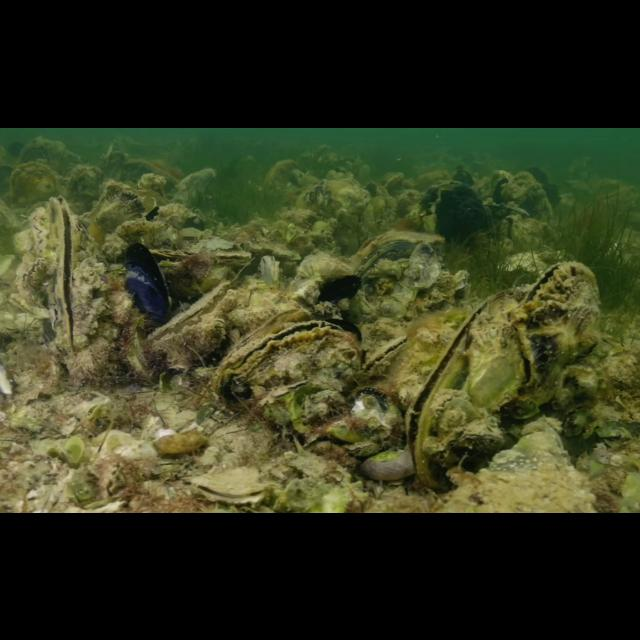Oyster-Closed: (152, 278, 238, 344), (349, 229, 449, 277), (124, 240, 178, 326), (150, 238, 254, 268), (10, 288, 54, 322), (435, 387, 475, 418), (32, 204, 56, 252), (348, 439, 390, 459), (27, 258, 54, 284)
Oyster-Open: (408, 287, 534, 495), (219, 319, 365, 397), (524, 259, 606, 397), (46, 196, 92, 360), (195, 462, 275, 506), (364, 333, 412, 373)
